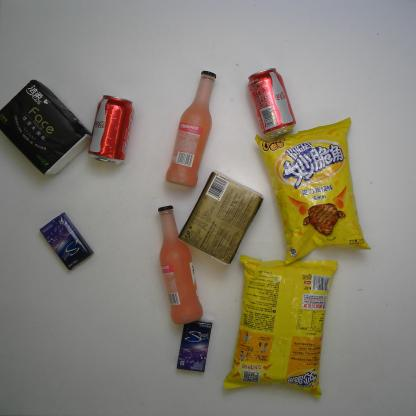Alcohol: (166, 70, 216, 188), (158, 204, 203, 325)
Drink: (248, 67, 295, 138), (88, 95, 134, 165)
Gum: (40, 212, 95, 271), (176, 319, 213, 372)
Puffed Food: (255, 117, 371, 263), (223, 253, 339, 397)
Tissue: (0, 79, 95, 177), (179, 169, 264, 266)
